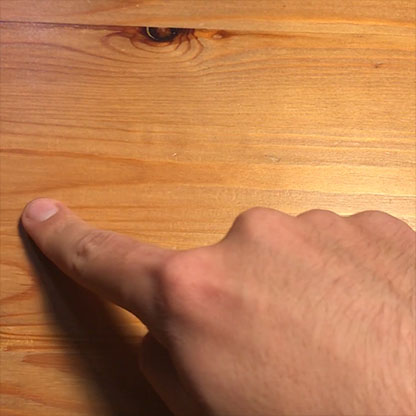fingertip: (15, 188, 71, 237)
